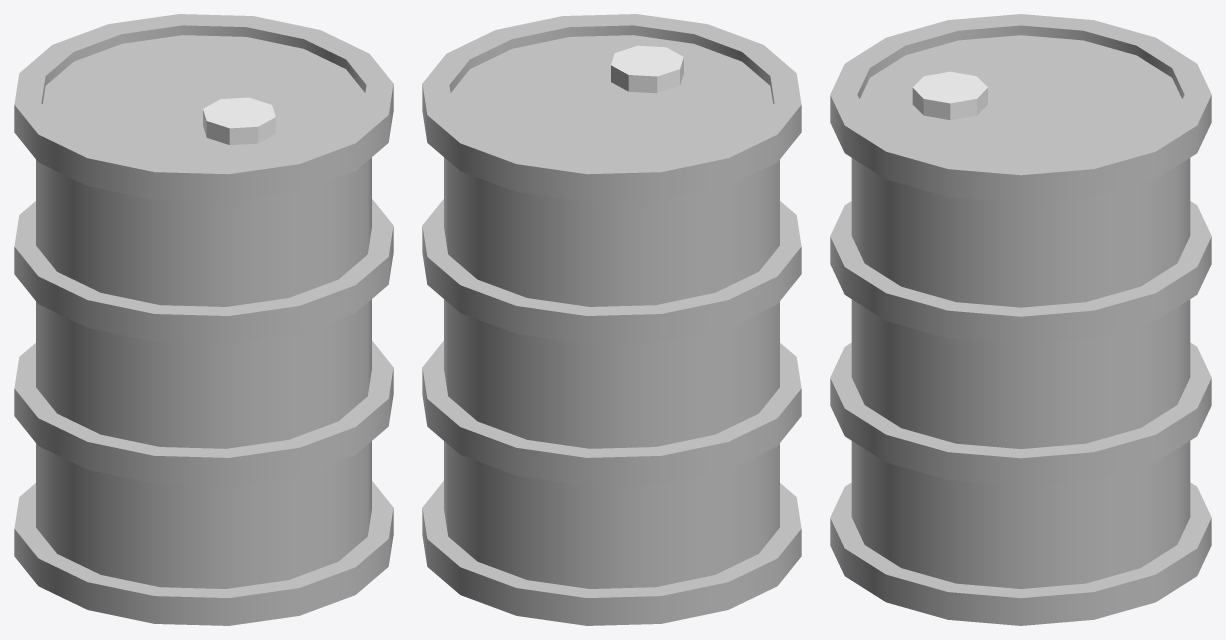
Rendered from Barrel-00-Final.fbx.
The picture shows the model from 3 angles, left to right: view 1: azimuth 30°, elevation 25°; view 2: azimuth 150°, elevation 25°; view 3: azimuth 270°, elevation 25°; orthographic projection.
Visible parts, largest first — view 1: Cylinder; view 2: Cylinder; view 3: Cylinder.
Part boxes in pixels (x1=…): Cylinder: x1=14, y1=14, x2=393, y2=625; Cylinder: x1=422, y1=14, x2=801, y2=625; Cylinder: x1=830, y1=14, x2=1211, y2=625.
Size of the model in its own units: 147 by 194 by 147.
